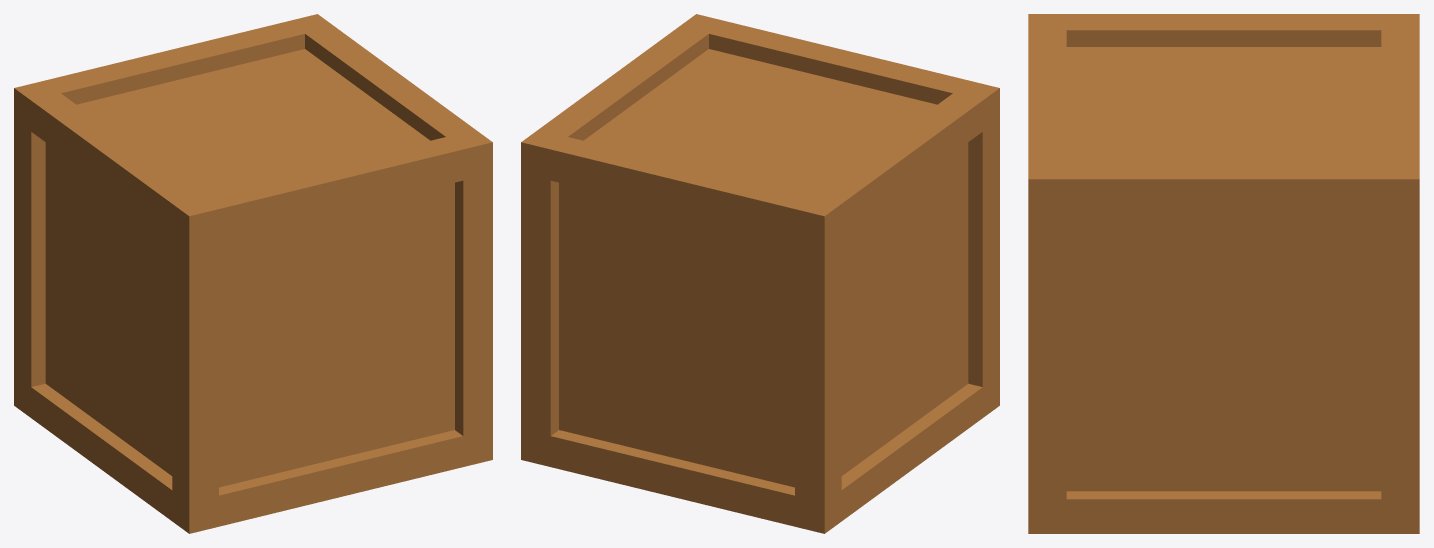
Rendered from Crate.glb.
3 views of the same model, side by side, from view 1: azimuth 30°, elevation 25°; view 2: azimuth 150°, elevation 25°; view 3: azimuth 270°, elevation 25° (orthographic). The views are drawn at different scales.
Visible parts, largest first — view 1: Cube; view 2: Cube; view 3: Cube.
Part boxes in pixels (x1=…): Cube: x1=14, y1=14, x2=492, y2=533; Cube: x1=521, y1=14, x2=999, y2=533; Cube: x1=1028, y1=14, x2=1419, y2=533.
Size of the model in its own units: 2 by 2 by 2.
1 material, 1 textured.
